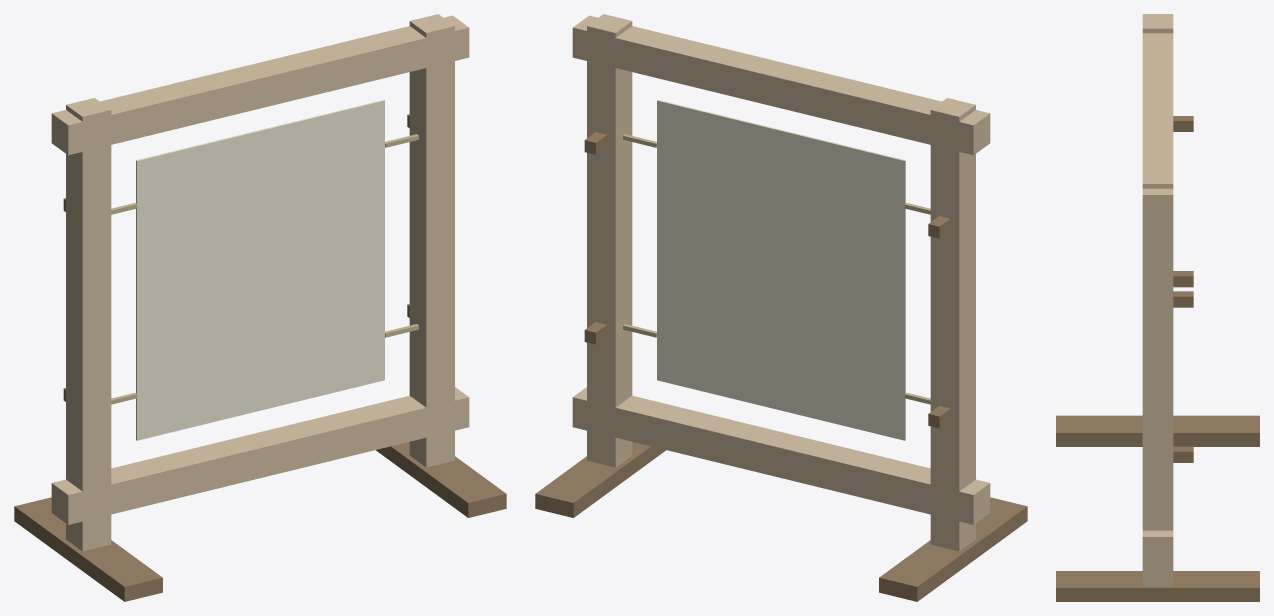
File: prop-stretching-frame-pm1.fbx
3 renders of one model, left to right at view 1: azimuth 30°, elevation 25°; view 2: azimuth 150°, elevation 25°; view 3: azimuth 270°, elevation 25°, orthographic. The views are drawn at different scales.
Parts seen in each view (by area): view 1: prop-stretching-frame-pm1; view 2: prop-stretching-frame-pm1; view 3: prop-stretching-frame-pm1.
Part boxes in pixels (x1,y1,x2,y2): prop-stretching-frame-pm1: (14, 14, 506, 601); prop-stretching-frame-pm1: (535, 14, 1027, 601); prop-stretching-frame-pm1: (1056, 14, 1259, 601).
Size of the model in its own units: 84 by 90 by 40.
